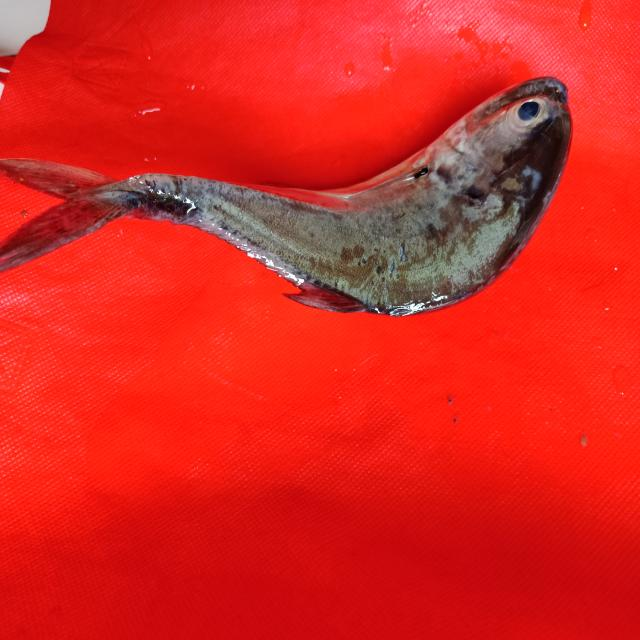ikan: (16, 61, 584, 334)
